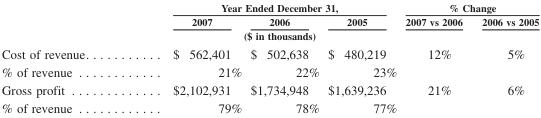table: (0, 1, 538, 114)
table column: (0, 1, 130, 114), (130, 1, 245, 114), (245, 1, 323, 114), (323, 1, 400, 114), (400, 1, 471, 114), (471, 1, 538, 114)
table column header: (0, 1, 538, 43)
table row: (0, 43, 538, 62), (0, 62, 538, 80), (0, 80, 538, 98), (0, 98, 538, 114), (0, 28, 538, 43), (0, 14, 538, 28), (0, 1, 538, 14)
table spanning cell: (130, 28, 400, 43), (130, 1, 400, 14), (400, 14, 471, 43), (471, 14, 538, 43), (400, 1, 538, 14)
